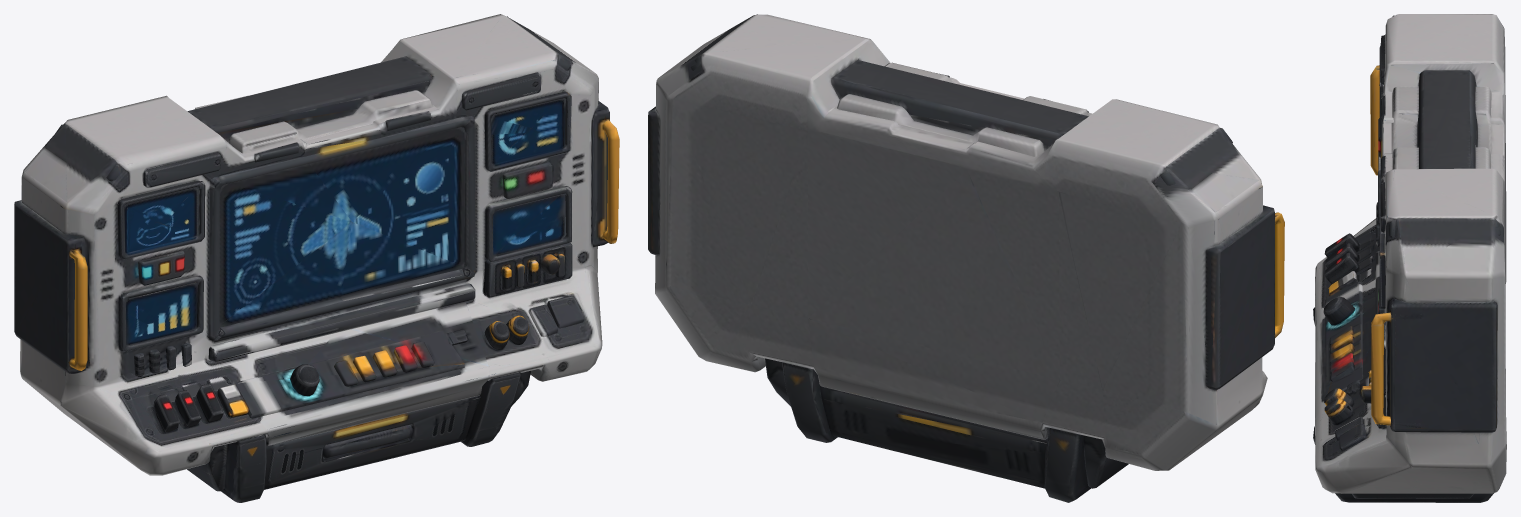
File: obj_spaceship_console.glb
The picture shows the model from 3 angles, left to right: view 1: azimuth 30°, elevation 25°; view 2: azimuth 150°, elevation 25°; view 3: azimuth 270°, elevation 25°; orthographic projection. The views are drawn at different scales.
Bounding box in the file's own units: 1 × 0.6152 × 0.3262.
Materials: 1 (1 with a texture image).
